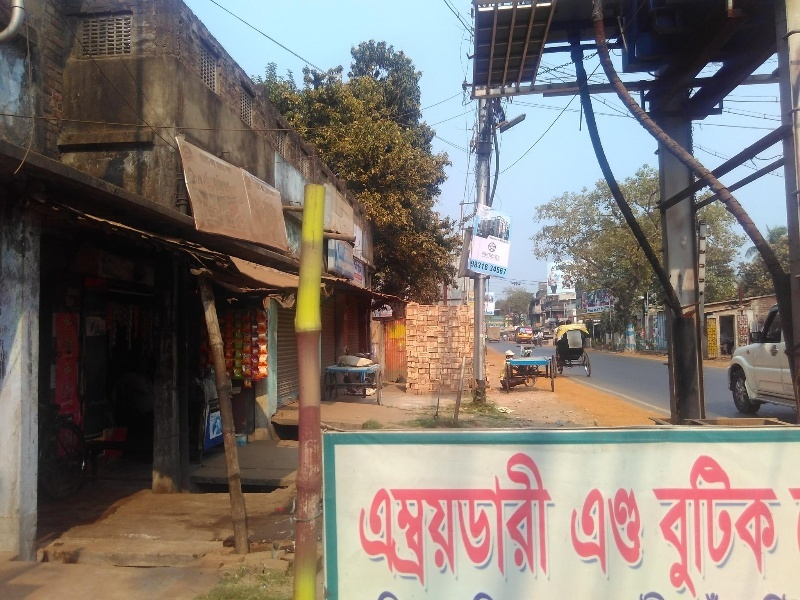text: (193, 124, 208, 288), (209, 124, 224, 288), (225, 124, 240, 288), (241, 124, 256, 288), (257, 124, 272, 288), (273, 124, 288, 288), (289, 124, 304, 288), (305, 124, 320, 288), (321, 124, 336, 288), (337, 124, 352, 288), (353, 124, 368, 288), (369, 124, 384, 288), (657, 455, 672, 599), (673, 455, 688, 599), (689, 455, 704, 599), (705, 455, 720, 599), (721, 455, 736, 599), (737, 455, 752, 599), (753, 455, 768, 599), (769, 455, 784, 599), (369, 452, 384, 591), (385, 452, 400, 591), (401, 452, 416, 591), (417, 452, 432, 591), (433, 452, 448, 591), (449, 452, 464, 591), (465, 452, 480, 591), (481, 452, 496, 591), (497, 452, 512, 591), (513, 452, 528, 591), (529, 452, 544, 591), (545, 452, 560, 591), (354, 452, 368, 591), (647, 455, 656, 599), (577, 488, 592, 573), (593, 488, 608, 573), (609, 488, 624, 573), (625, 488, 640, 573), (566, 488, 576, 573), (385, 124, 390, 288), (481, 209, 496, 246), (497, 209, 512, 246), (641, 488, 647, 573), (189, 124, 192, 288), (481, 261, 496, 276), (497, 261, 507, 276), (785, 455, 786, 599), (482, 251, 496, 261), (472, 261, 480, 276), (477, 209, 480, 246), (594, 308, 608, 312), (497, 251, 500, 261)
